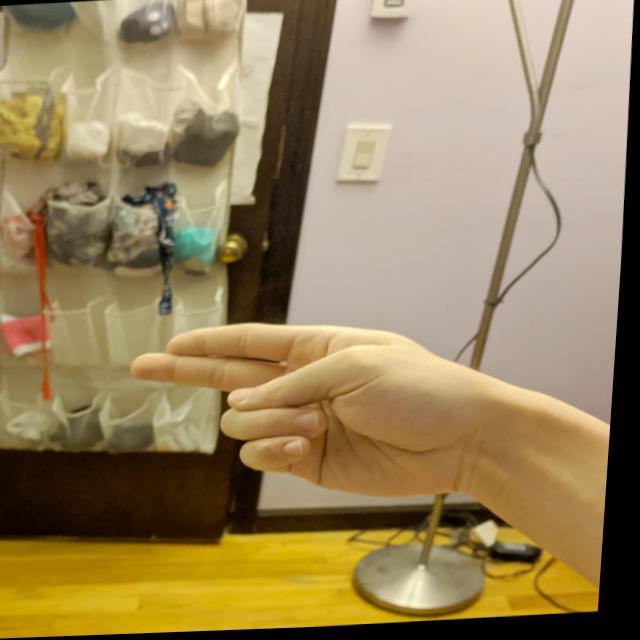H: (114, 307, 487, 527)
